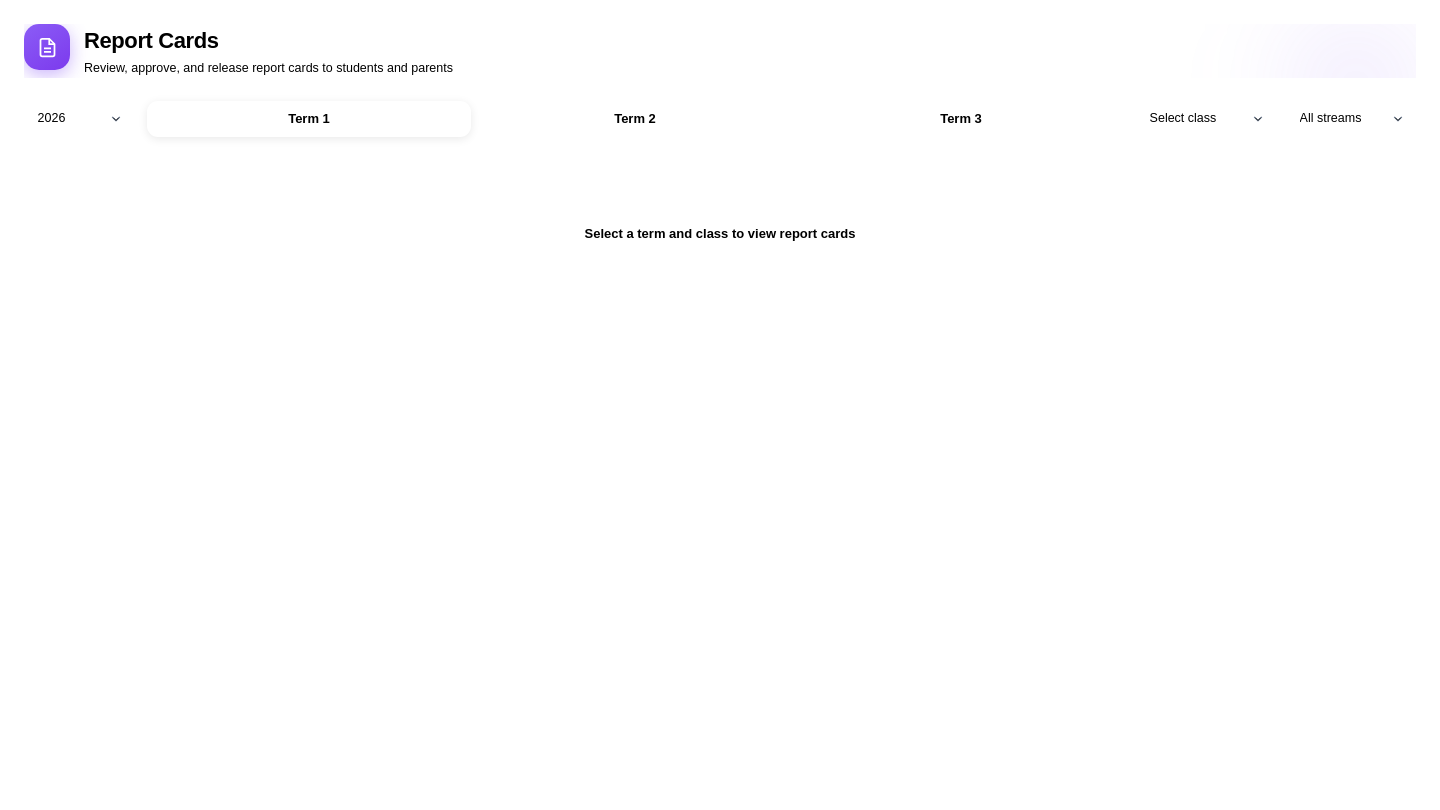
PrincipalReportCardsPage › surfaces an error in the Approve modal when the mutation rejects, instead of failing silently
This screenshot has width=1440, height=810.
Select "S.1" in the 2nd dropdown: (1206,119) top-left (1136, 101), bottom-right (1276, 137)
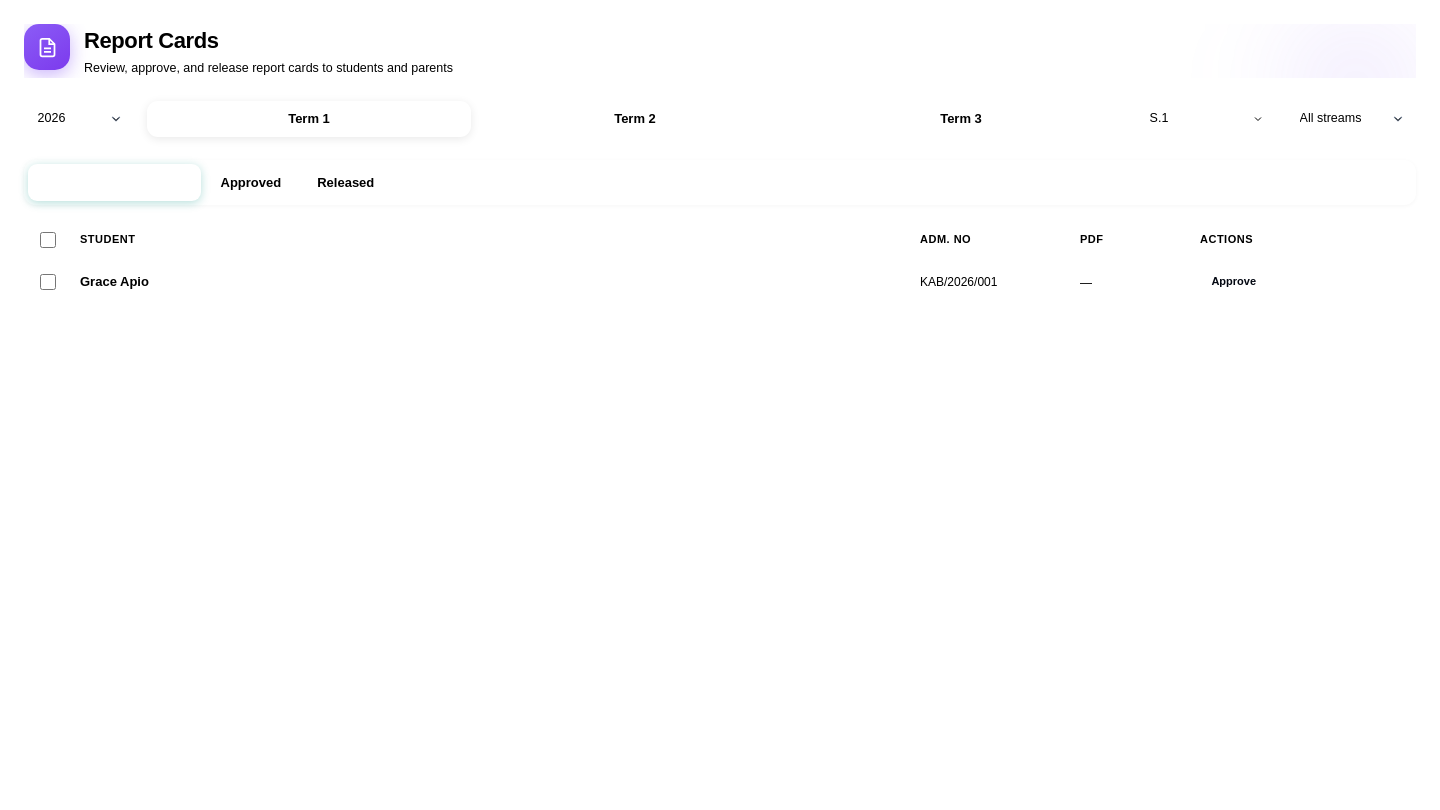
Result: the button "Approve" is shown
Click the button "Approve": (1234,282) top-left (1200, 271), bottom-right (1267, 293)
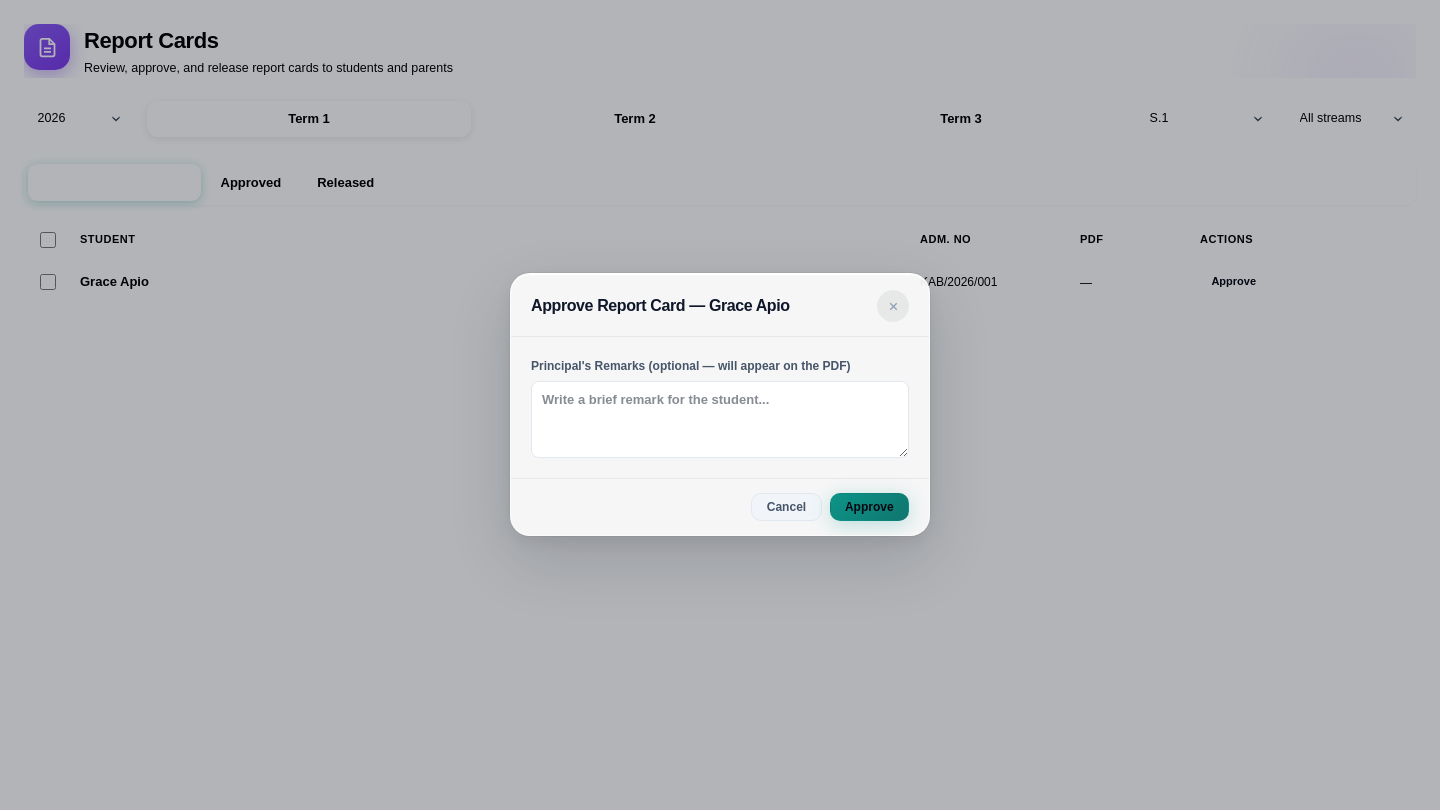
Result: the number of buttons "Approve" is 2
Click the button "Approve": (869,507) top-left (830, 494), bottom-right (909, 521)
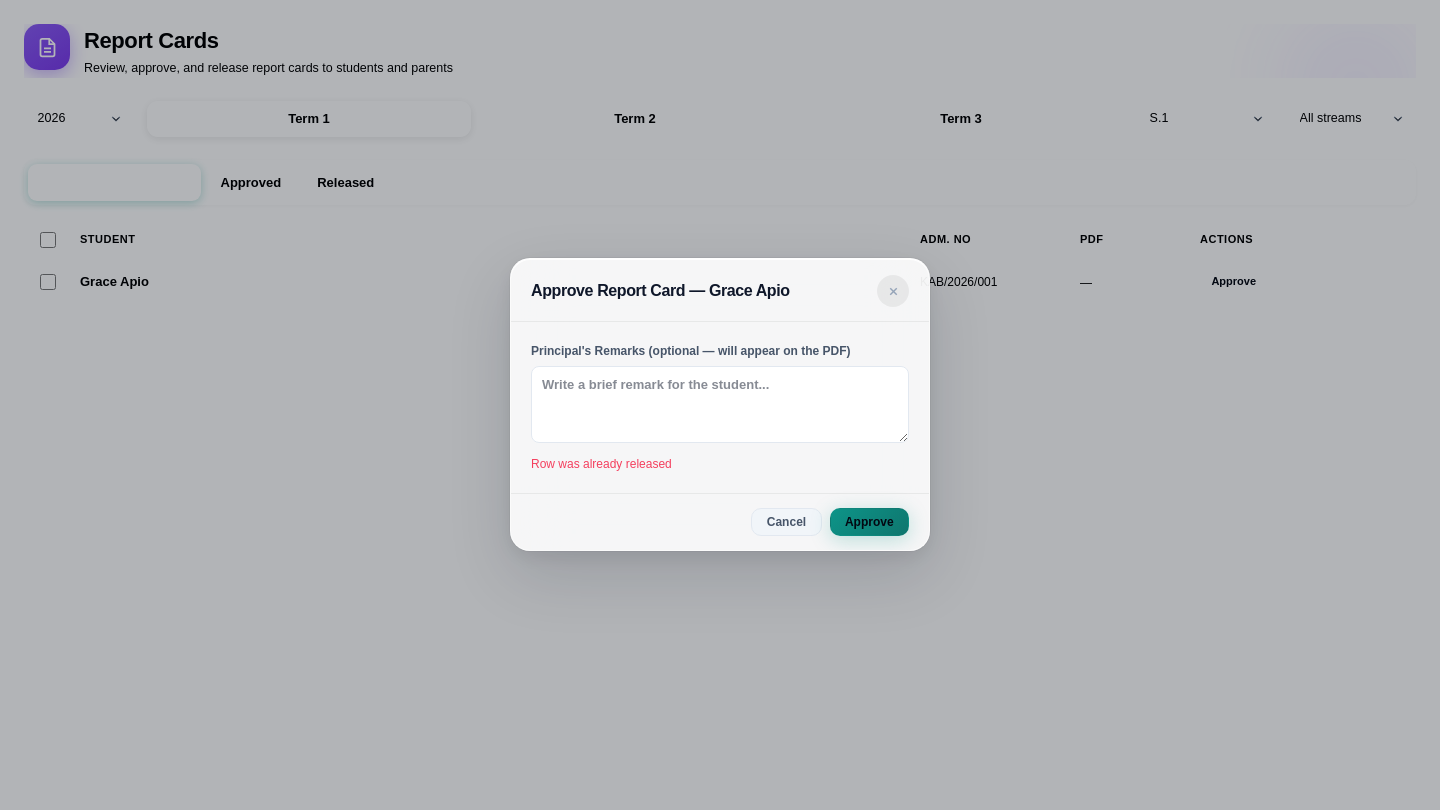
Result: the text "Row was already released" is shown at top-left (531, 457), bottom-right (672, 471)
